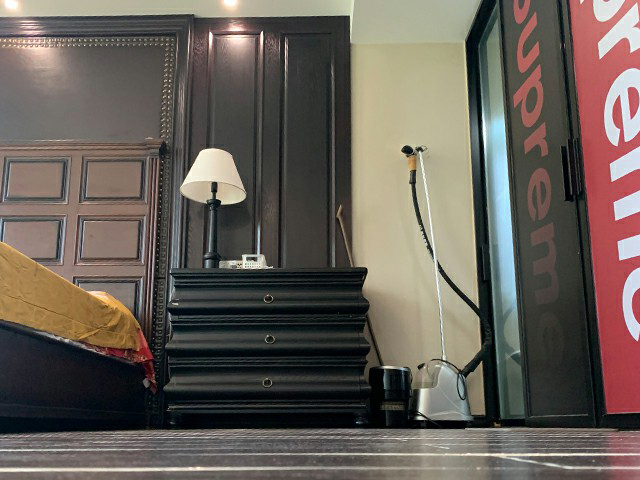bed: (1, 239, 157, 430)
cabinet: (163, 266, 373, 430)
